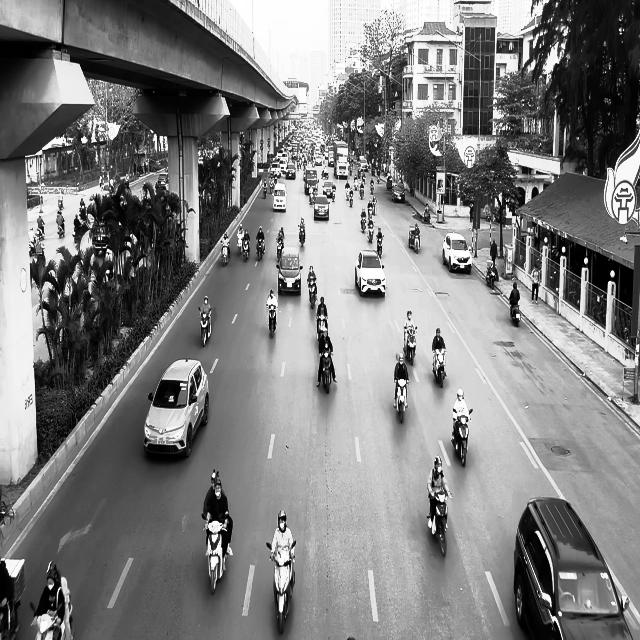bus: (334, 140, 349, 178)
car: (513, 496, 634, 640), (143, 357, 210, 458), (355, 249, 386, 297), (277, 246, 303, 296), (442, 232, 472, 274), (273, 183, 287, 212), (314, 194, 329, 220), (322, 180, 336, 199), (392, 183, 405, 203)
motorbike: (266, 540, 297, 634), (202, 515, 228, 594), (427, 492, 452, 556), (452, 408, 474, 466), (318, 348, 335, 394), (394, 377, 409, 423), (432, 348, 447, 387), (404, 327, 418, 365), (199, 308, 212, 346), (267, 305, 278, 337), (509, 298, 521, 326), (316, 313, 328, 341), (486, 261, 498, 288), (308, 280, 317, 308), (221, 239, 230, 266), (256, 238, 266, 260), (377, 234, 384, 258), (243, 238, 250, 261), (277, 238, 284, 260), (299, 227, 306, 246), (414, 234, 420, 254), (237, 237, 243, 256)
